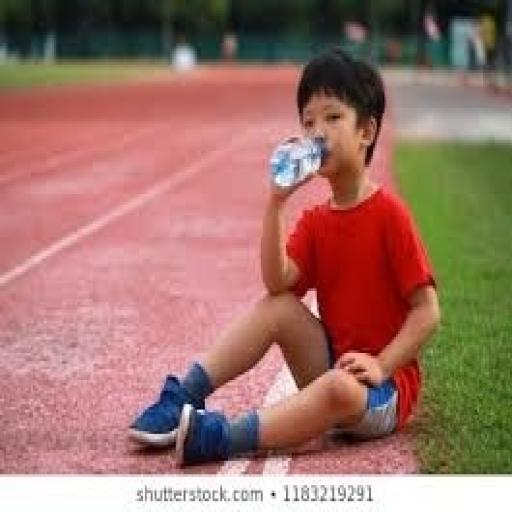drinking: (266, 132, 326, 191)
